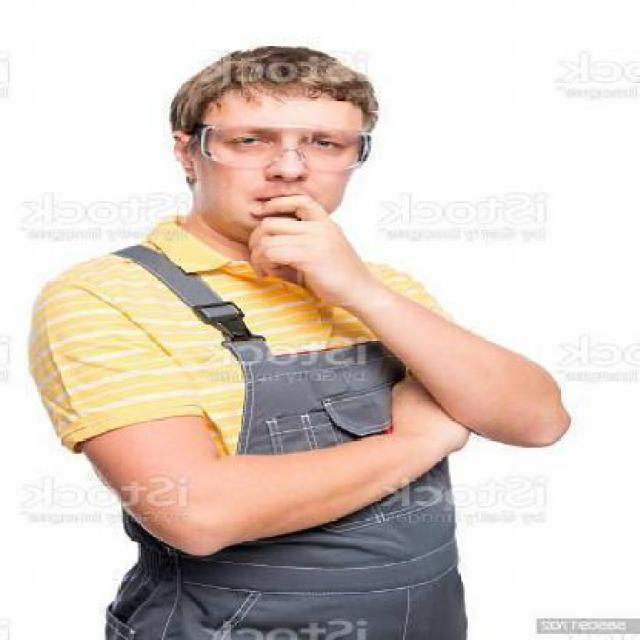glasses: (187, 120, 382, 174)
hand_noglove: (244, 190, 350, 299)
head_nohelmet: (176, 44, 379, 122)
person: (54, 51, 483, 640)
